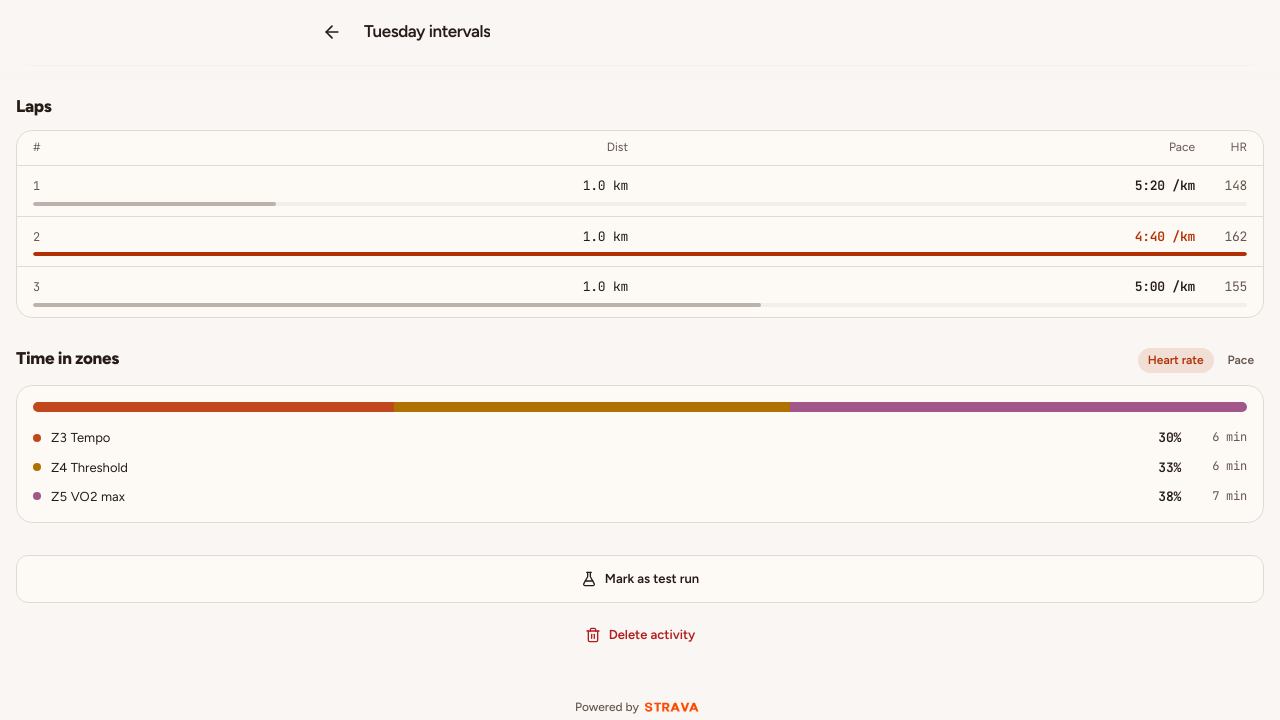
ActivityDetailScreen — splits and zones › draws one distribution at a time and swaps it on request
The width and height of the screenshot is (1280, 720).
(page scrolled)
Expected: the heading "Time in zones" is shown, [16,346,119,370]
Expected: the picture named "time in zones — heart rate" is shown, [33,402,1247,412]
Step 1. Click the button "Pace" → (1241,360), box [1218,348,1264,373]
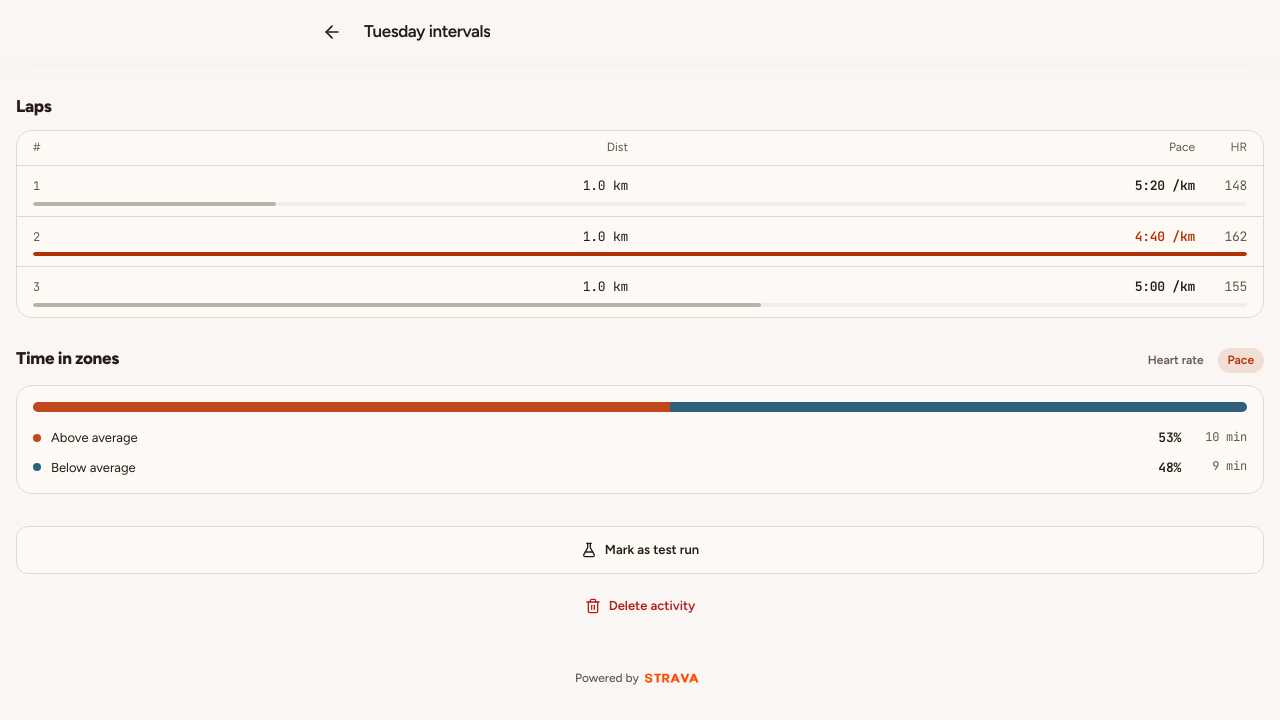
Now the picture named "time in zones — pace" is shown, box [33,402,1247,412]
